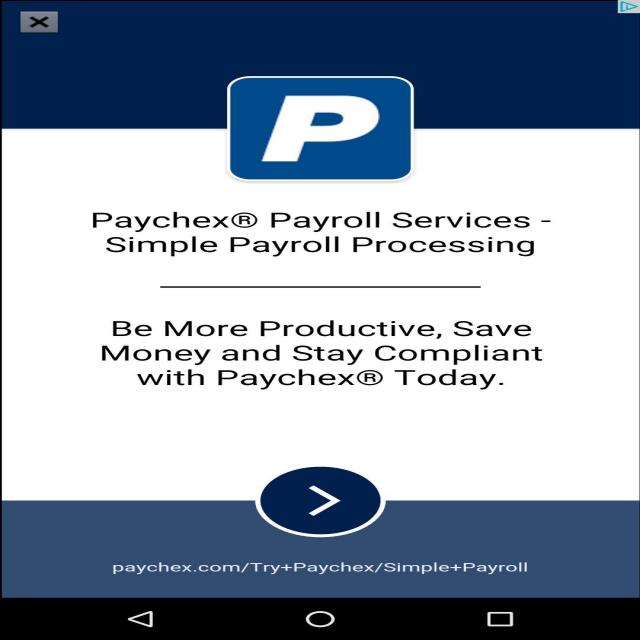button: (258, 459, 388, 536), (15, 8, 63, 34)
image: (225, 74, 418, 182)
text: (103, 314, 555, 390), (80, 211, 555, 264), (103, 560, 535, 578)
